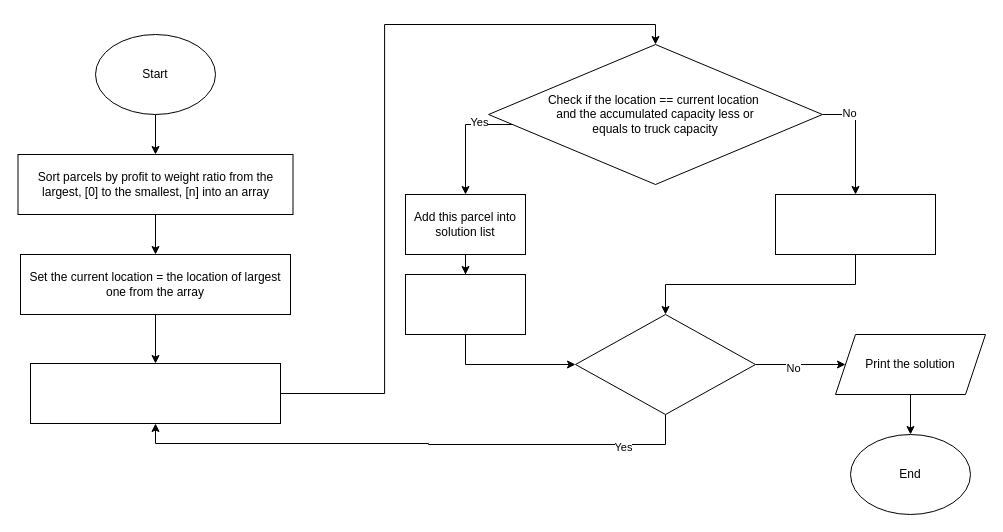
This 1003x532 diagram has some shape labels left out. Here are the shapes that lost their labels. From the top down, the centre of each, then its label:
[855,224]: Reject this parcel and remove it from the array
[465,304]: Set current location = delivery location
[665,364]: There is any parcel remaining in the array
[155,393]: Choose the largest one (most profitable parcel) from the array
